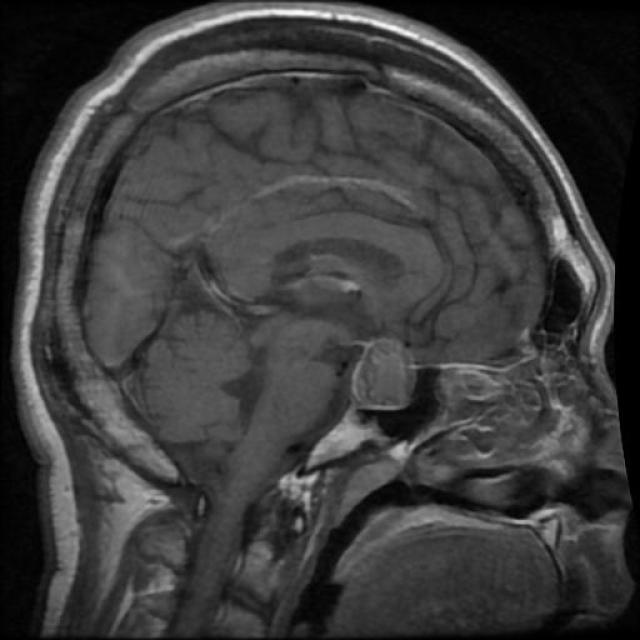pituitary: (338, 331, 428, 428)
